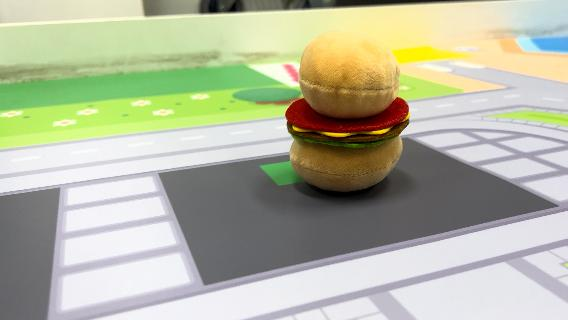burger: (282, 28, 414, 194)
